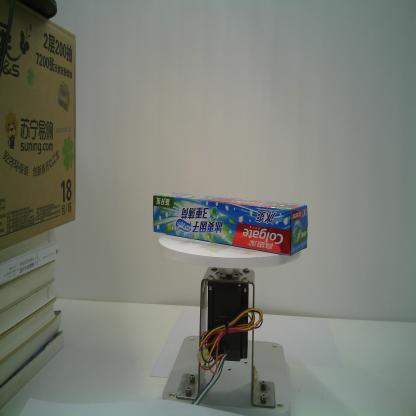Personal Hygiene: (152, 190, 308, 258)
